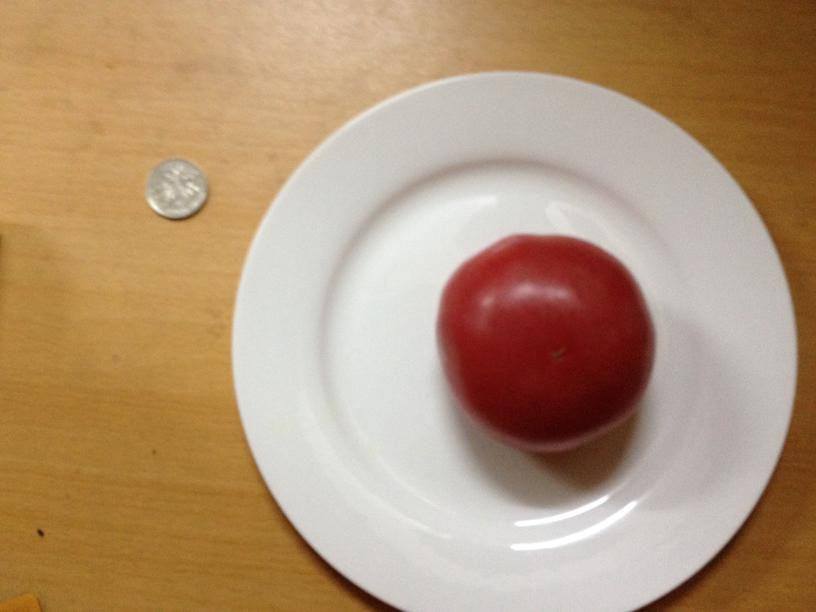coin: (142, 159, 210, 219)
tomato: (145, 135, 210, 196)
